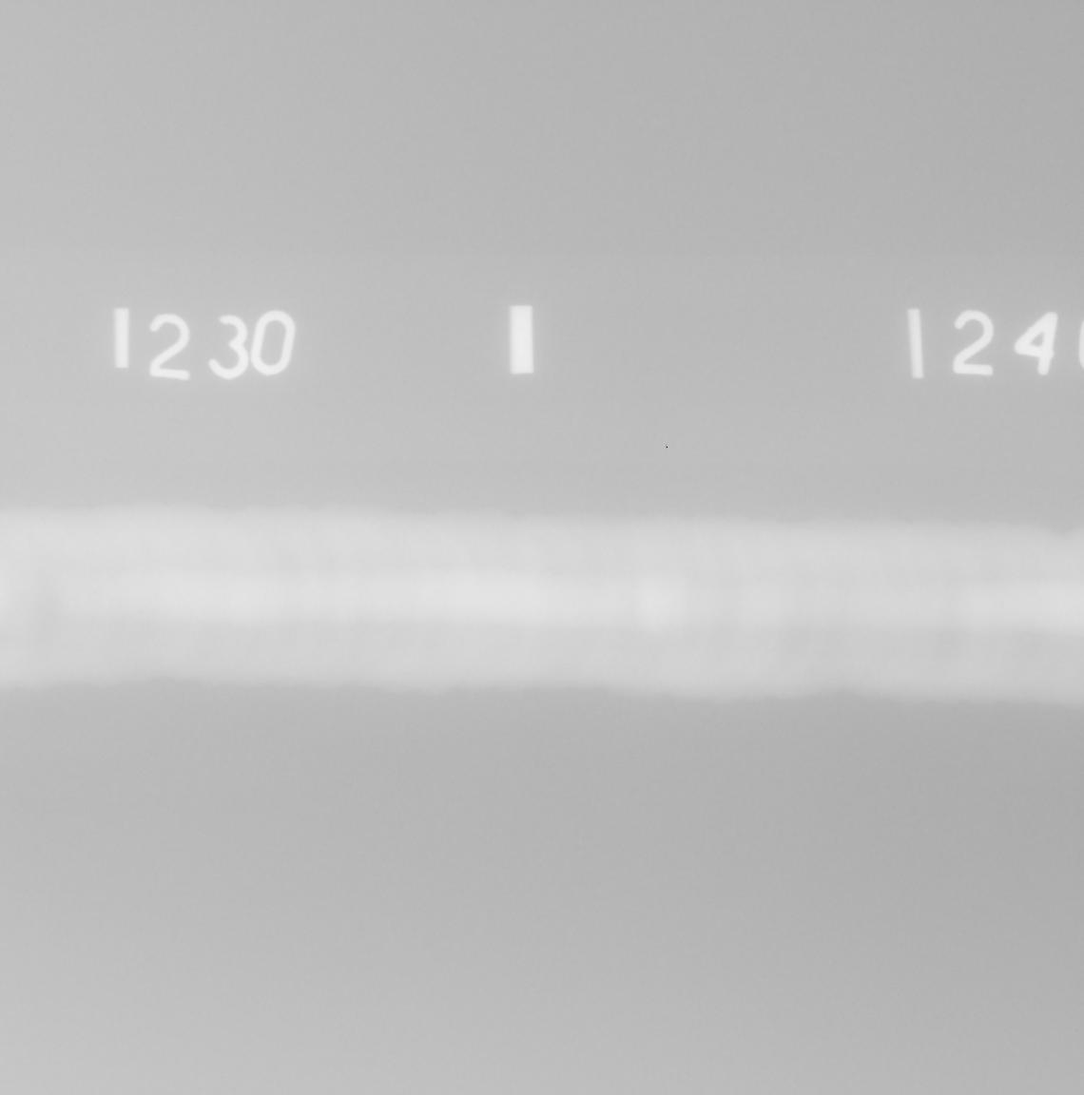Pore/Porosity: (90, 616, 96, 621), (15, 607, 19, 613), (141, 610, 145, 614), (141, 574, 144, 578)
